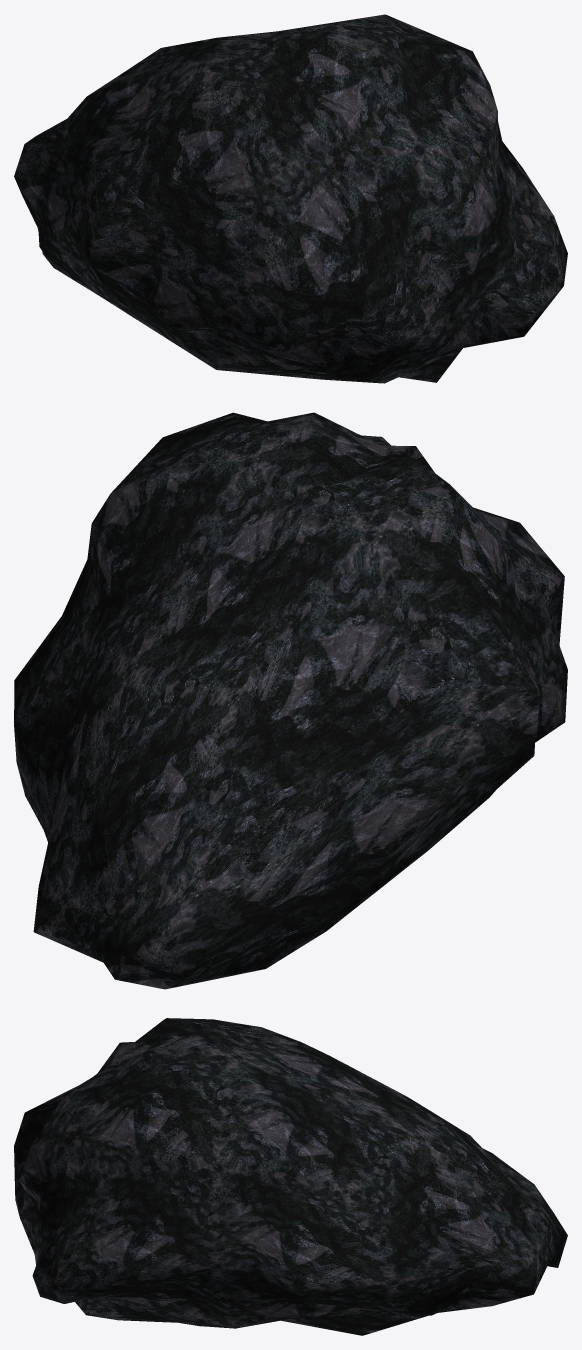
The model's file is asteroid_obsidian_large_s01_l1.fbx.
3 views of the same model, one above another, from view 1: azimuth 30°, elevation 25°; view 2: azimuth 150°, elevation 25°; view 3: azimuth 270°, elevation 25° (orthographic). The views are drawn at different scales.
Visible parts, largest first — view 1: mesh_node; view 2: mesh_node; view 3: mesh_node.
Part boxes in pixels (x1,y1,x2,y2): mesh_node: (14,14,567,383); mesh_node: (14,412,567,989); mesh_node: (14,1018,567,1335).
Bounding box in the file's own units: 106 × 84.15 × 148.
